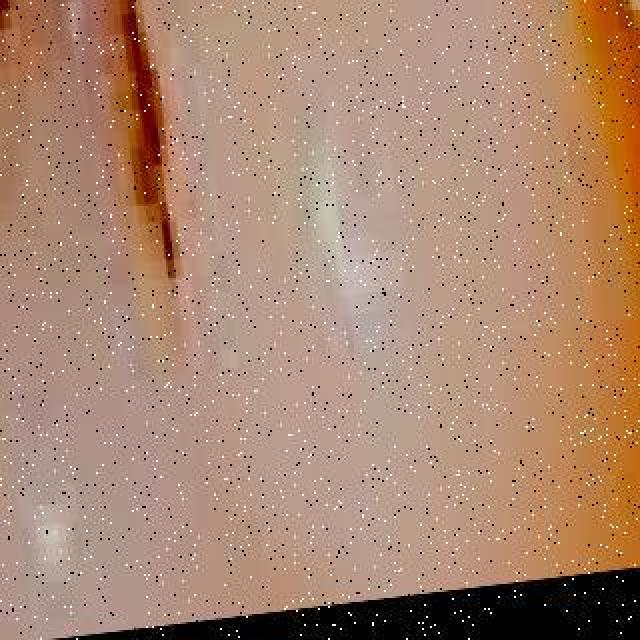cavities: (0, 0, 462, 326)
